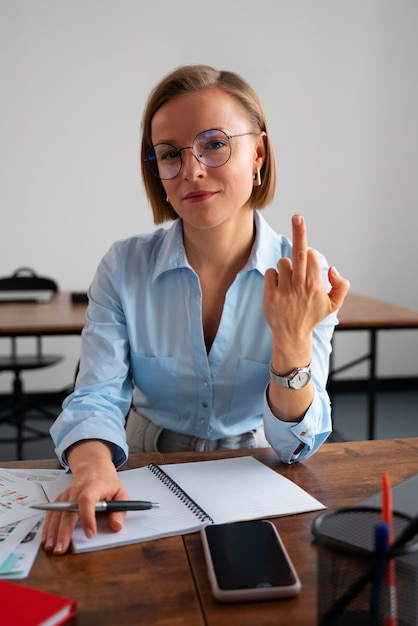insulting_gesture: (259, 213, 351, 345)
